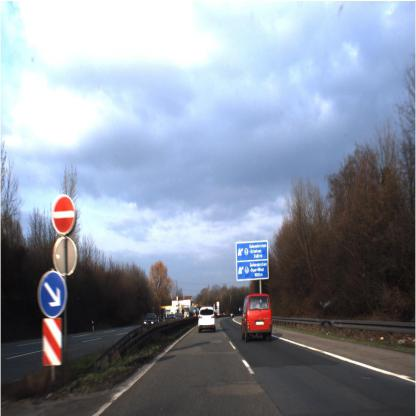mandatory: (34, 266, 70, 322)
other: (46, 186, 81, 238)
